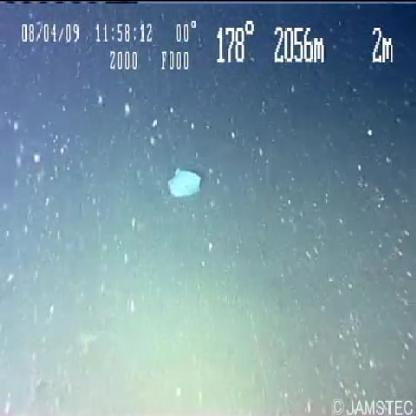Rác: (156, 158, 228, 214)
